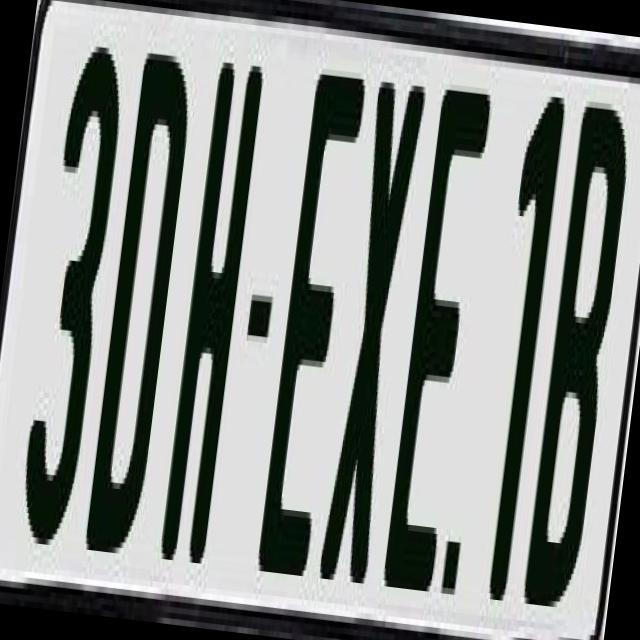1: (466, 88, 572, 613)
3: (12, 44, 132, 582)
B: (520, 89, 638, 622)
D: (82, 34, 200, 538)
E: (374, 88, 496, 628), (254, 56, 368, 588)
H: (156, 49, 274, 582)
X: (312, 74, 422, 606)
